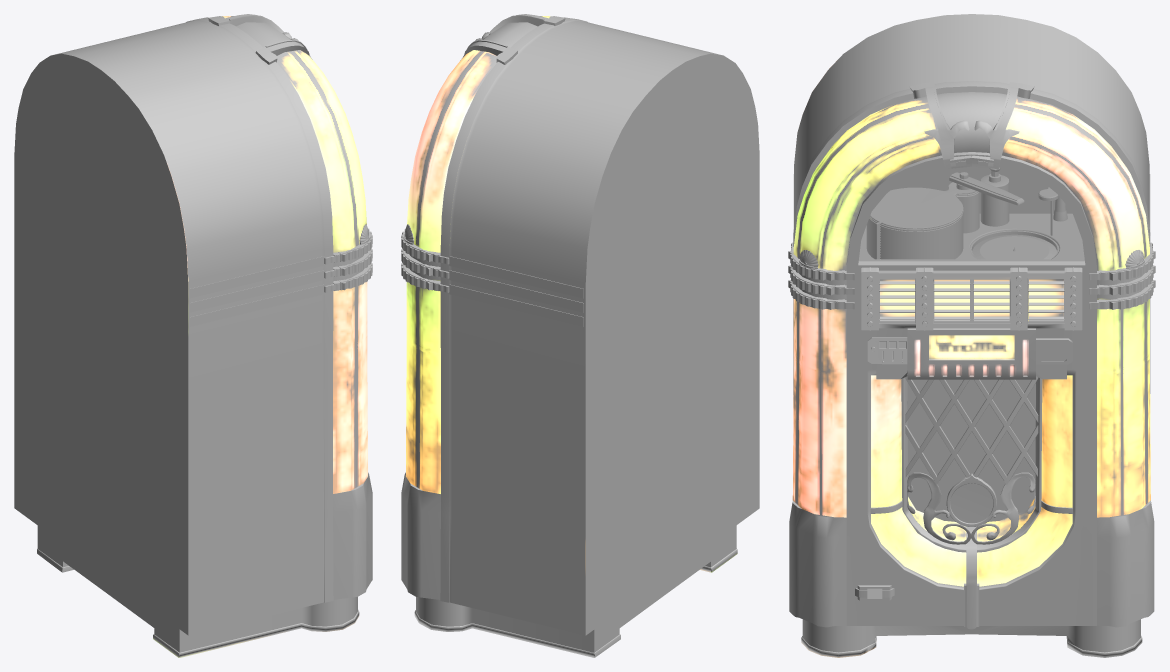
3 renders of one model, left to right at view 1: azimuth 30°, elevation 25°; view 2: azimuth 150°, elevation 25°; view 3: azimuth 270°, elevation 25°, orthographic. The views are drawn at different scales.
Parts seen in each view (by area): view 1: Jukebox_Low; view 2: Jukebox_Low; view 3: Jukebox_Low.
Boxes of the visible parts, x1,y1,x2,y2 form: Jukebox_Low: (14, 14, 372, 657); Jukebox_Low: (401, 14, 759, 657); Jukebox_Low: (788, 14, 1155, 657).
Bounding box in the file's own units: 0.6297 × 1.5 × 0.9042.
